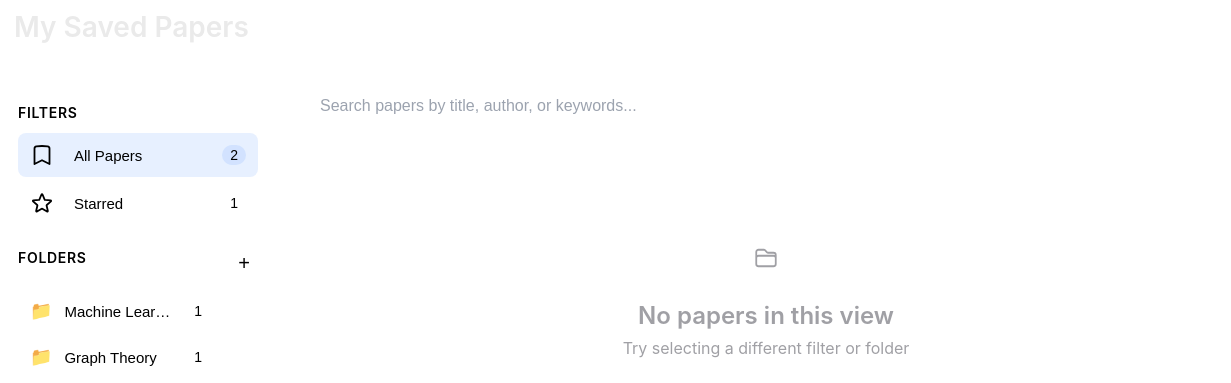
Test case: PersonalPage › empty states › should show no results message when search has no matches
Type "nonexistent" into the field with placeholder "Search papers by title, author, or keywords..." at (766,106), box [318,96,1214,116]
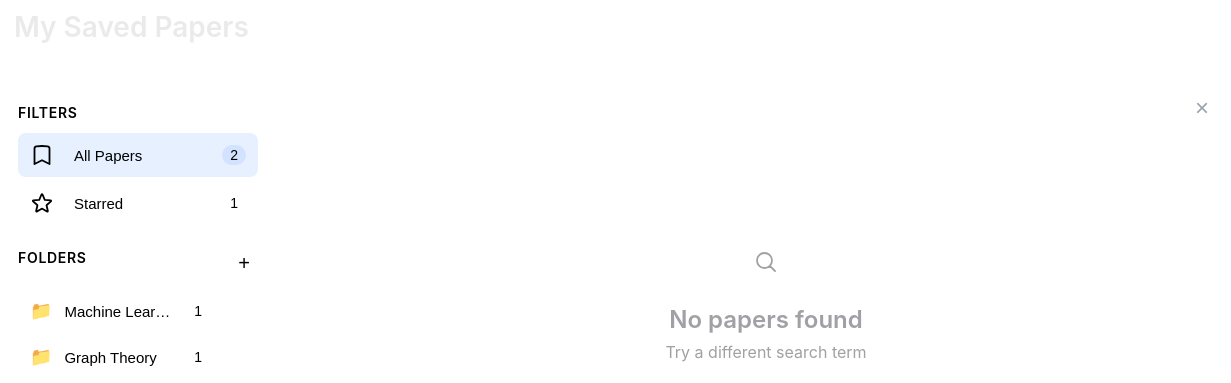
expect the heading "No papers found" is shown: met, box [669,305,863,334]
